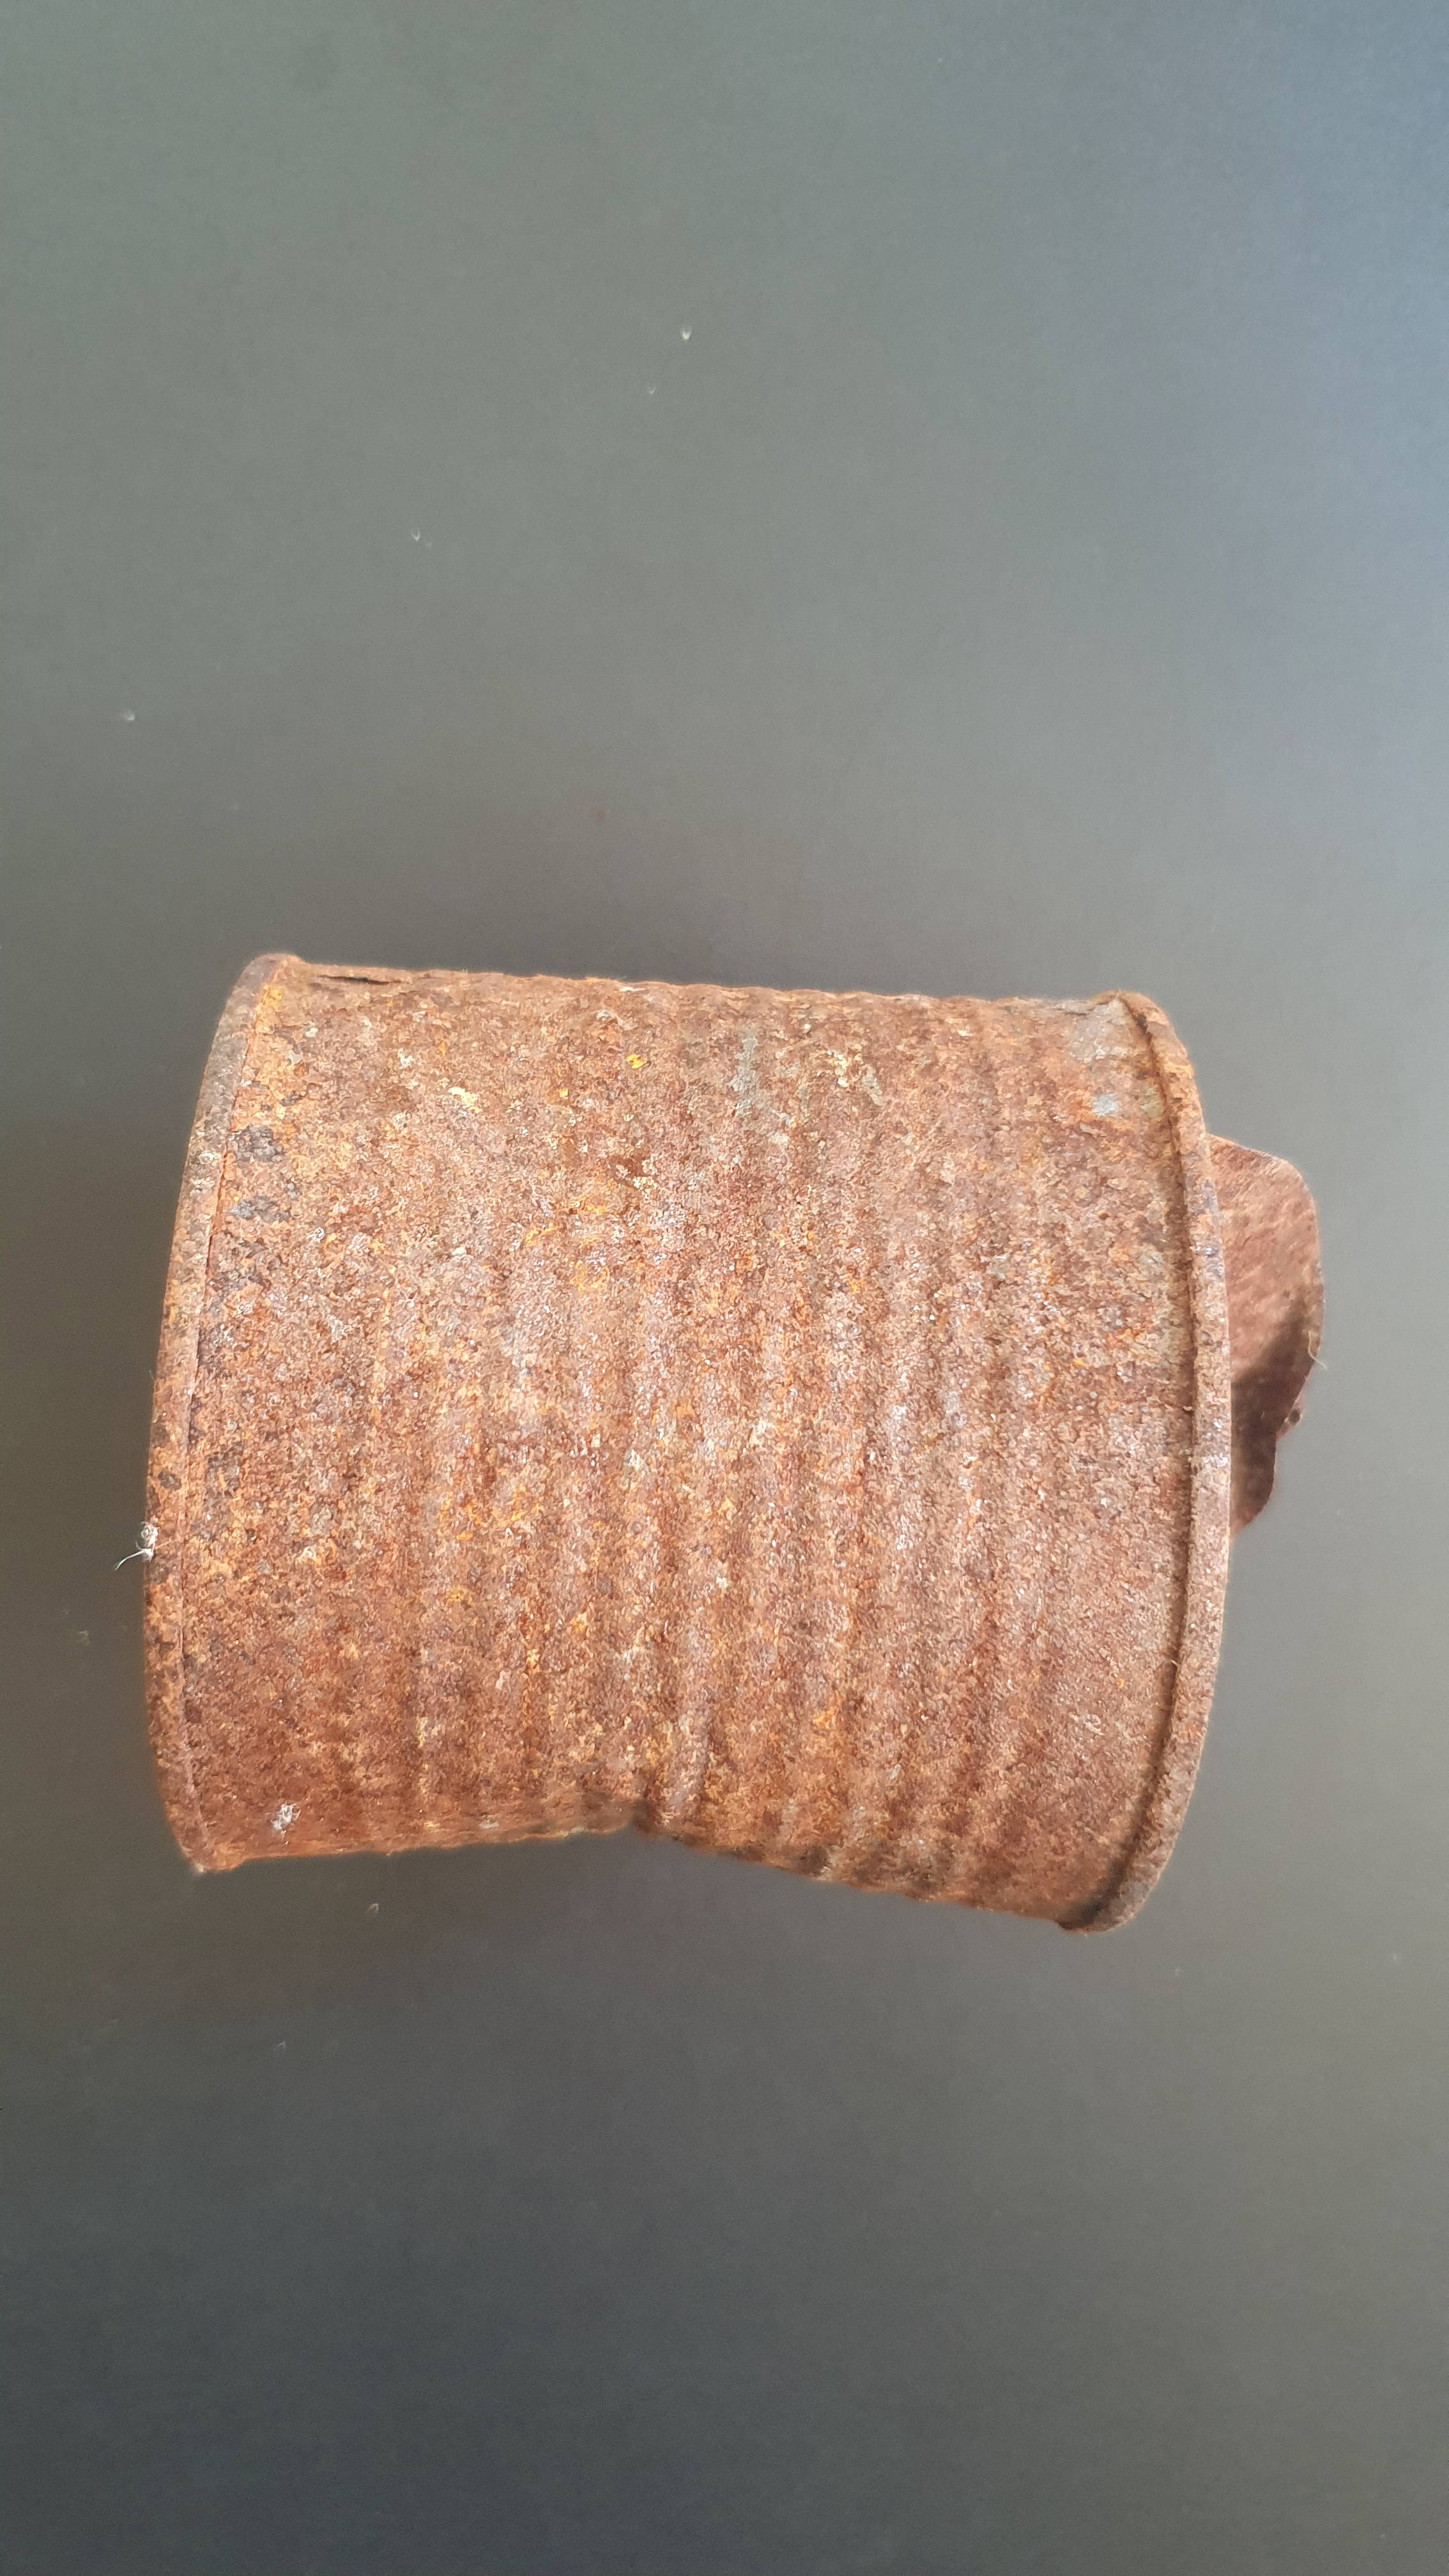metal: (99, 872, 1362, 1990)
